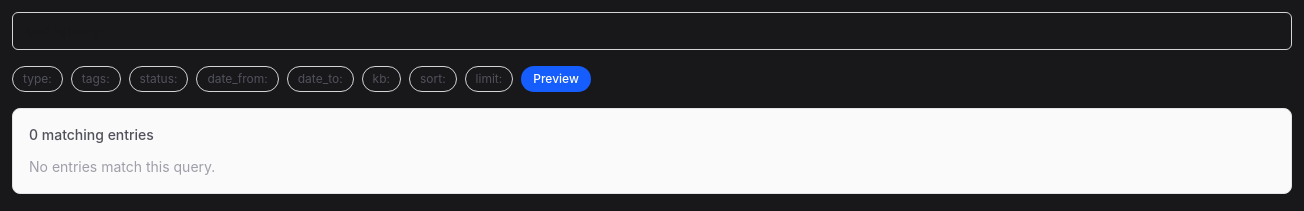
QueryBuilder › error state shows error message
What coordinates should you click on to do the following:
click the button "Preview"
I would click on:
 (556, 79)
Its box is x1=521 y1=66 x2=591 y2=92.
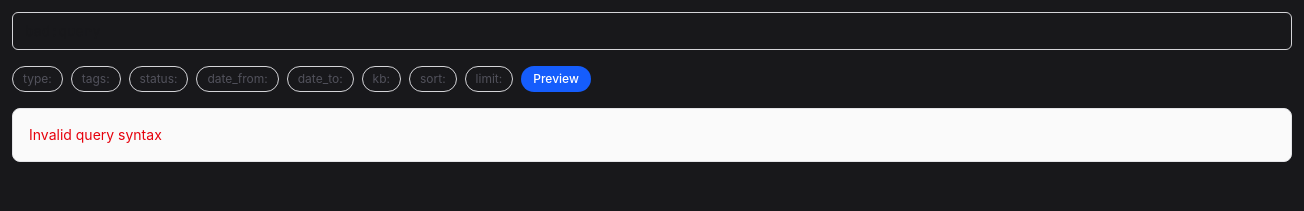
Check: the text "Invalid query syntax" is shown, box x1=29 y1=126 x2=162 y2=143
